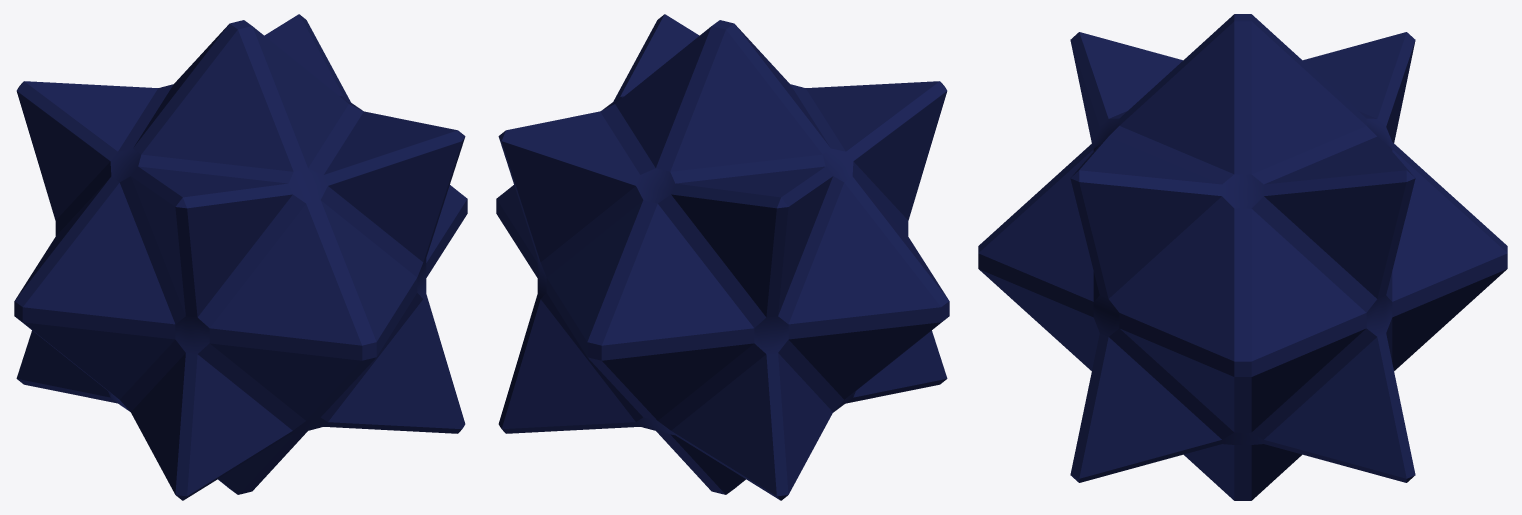
The model's file is st3_starobj3.fbx.
The picture shows the model from 3 angles, left to right: view 1: azimuth 30°, elevation 25°; view 2: azimuth 150°, elevation 25°; view 3: azimuth 270°, elevation 25°; orthographic projection. The views are drawn at different scales.
Visible parts, largest first — view 1: Cube_002; view 2: Cube_002; view 3: Cube_002.
Part boxes in pixels (x1=…): Cube_002: x1=14, y1=14, x2=467, y2=500; Cube_002: x1=496, y1=14, x2=949, y2=500; Cube_002: x1=978, y1=14, x2=1507, y2=500.
Bounding box in the file's own units: 141 × 141 × 141.
